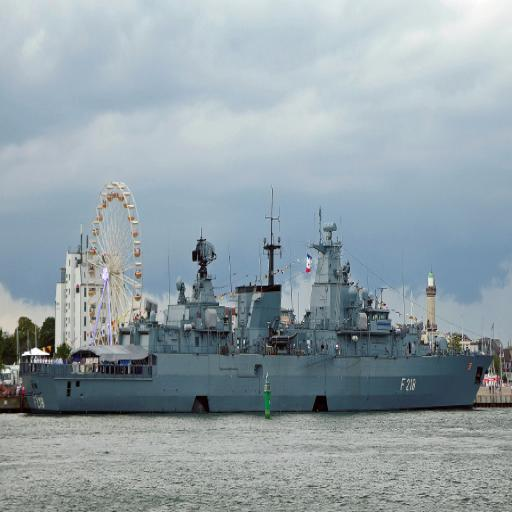Fragata: (15, 177, 501, 420)
